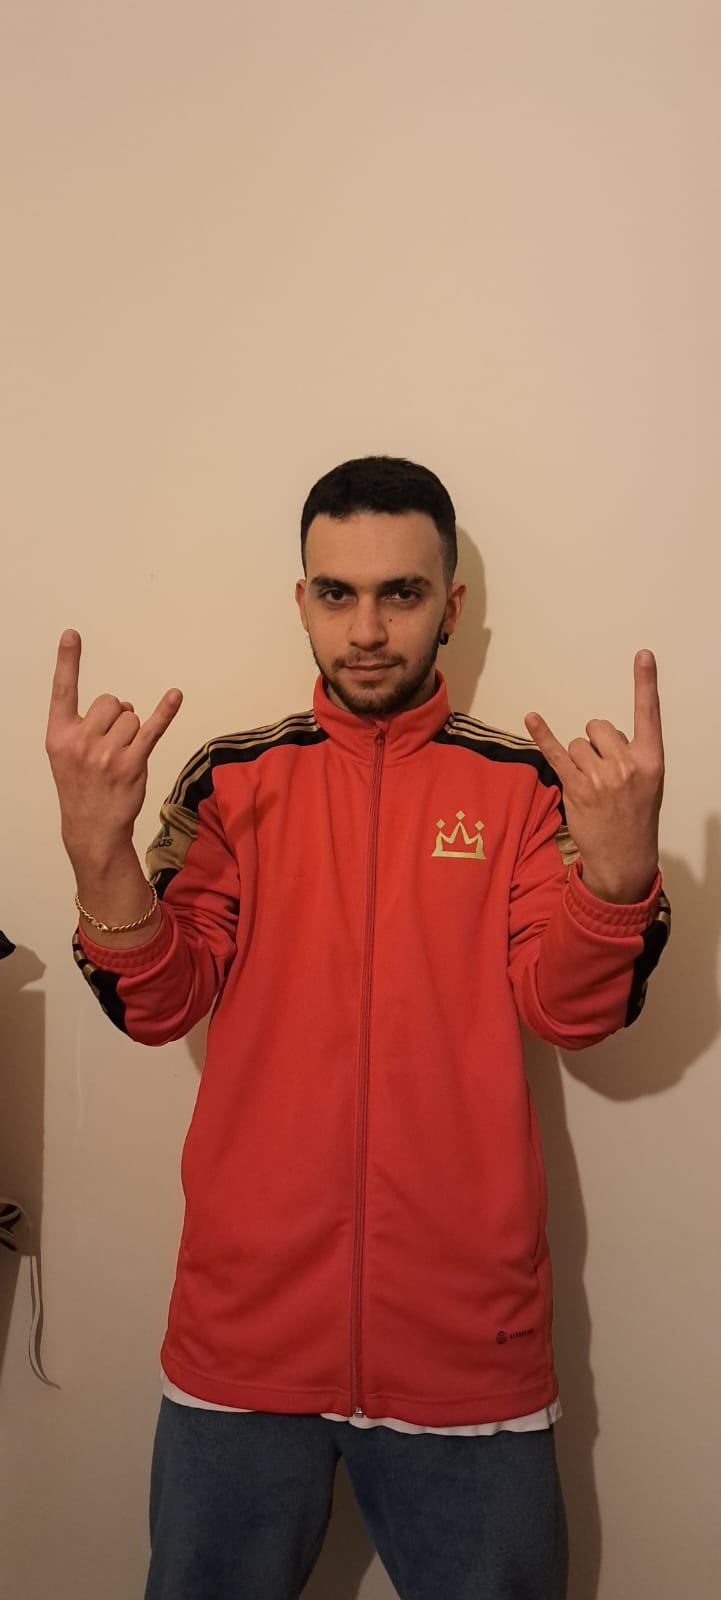rock: (43, 624, 686, 846)
